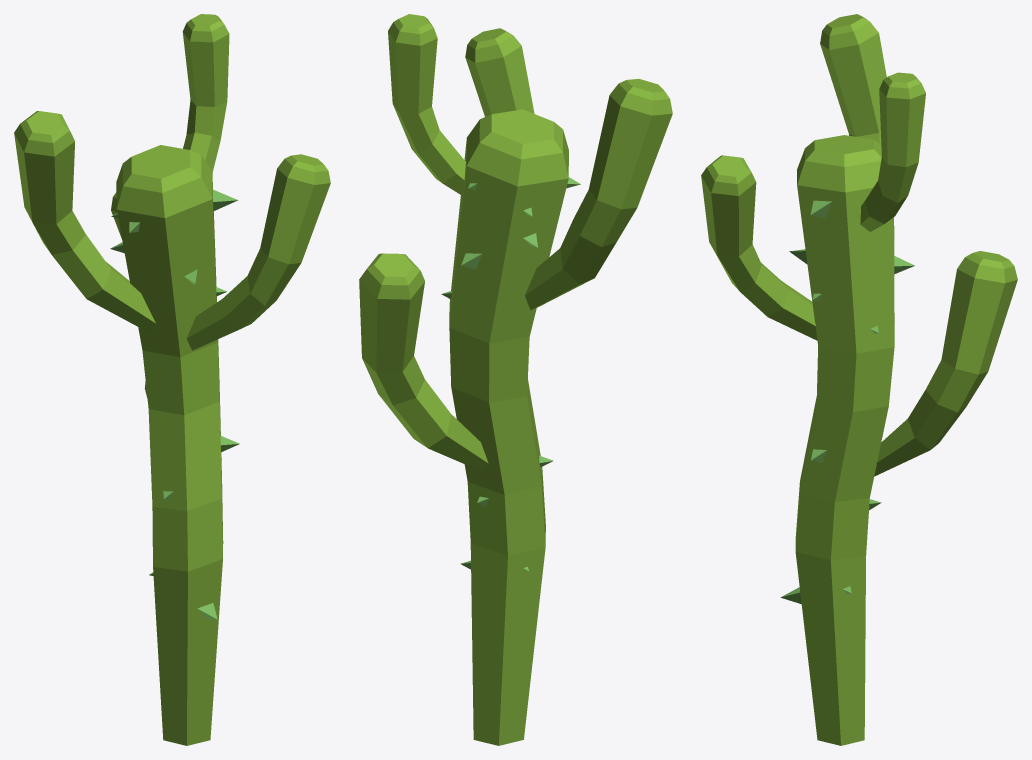
The model's file is model_tree_cactus.fbx.
The picture shows the model from 3 angles, left to right: view 1: azimuth 30°, elevation 25°; view 2: azimuth 150°, elevation 25°; view 3: azimuth 270°, elevation 25°; orthographic projection. The views are drawn at different scales.
Visible parts, largest first — view 1: model_tree_cactus; view 2: model_tree_cactus; view 3: model_tree_cactus.
Part boxes in pixels (x1=…): model_tree_cactus: x1=14, y1=14, x2=330, y2=745; model_tree_cactus: x1=359, y1=14, x2=672, y2=745; model_tree_cactus: x1=701, y1=14, x2=1017, y2=745.
Size of the model in its own units: 190 by 502 by 212.
Materials: 1 (1 with a texture image).
